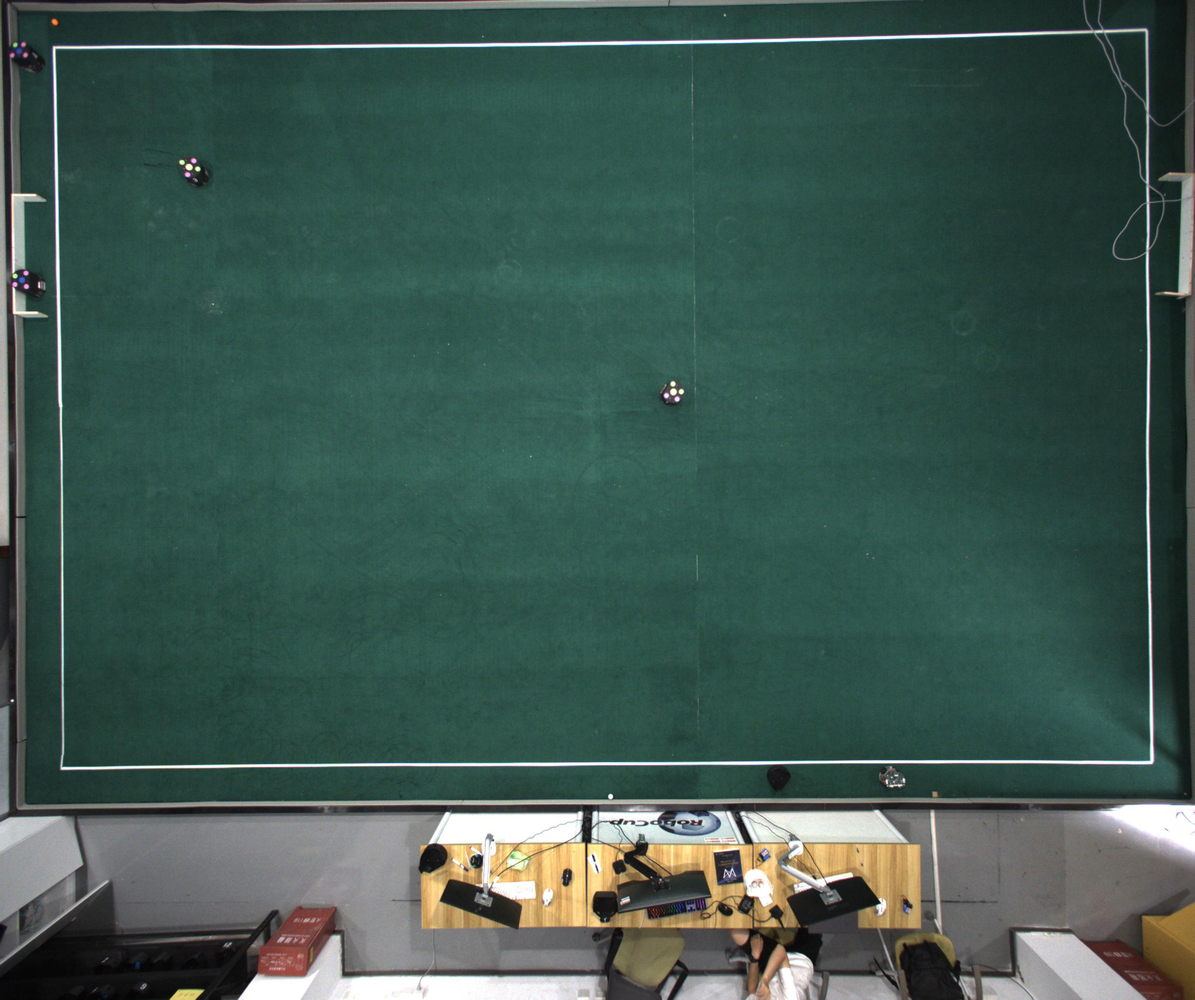ball: (52, 19, 58, 26)
blue_bot: (10, 268, 33, 291), (8, 42, 30, 61)
yellow_bot: (662, 381, 685, 403), (178, 157, 201, 179)
